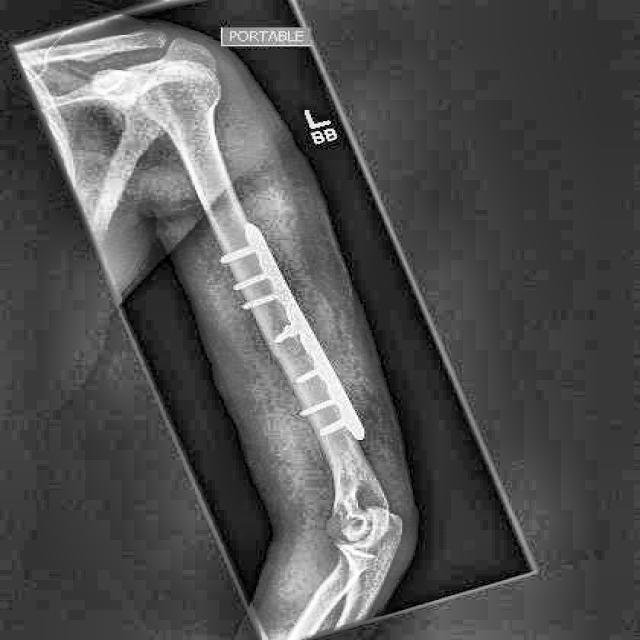humerus: (267, 339, 317, 375)
